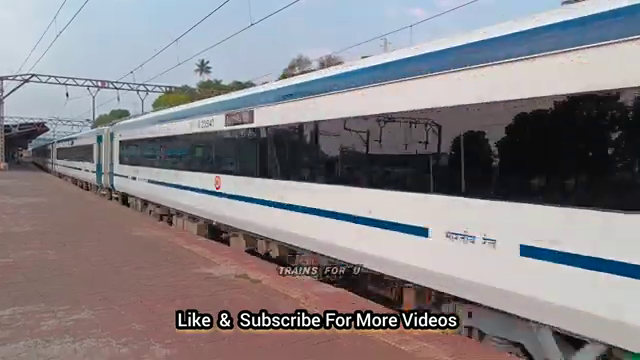Boogie: (195, 118, 219, 130)
